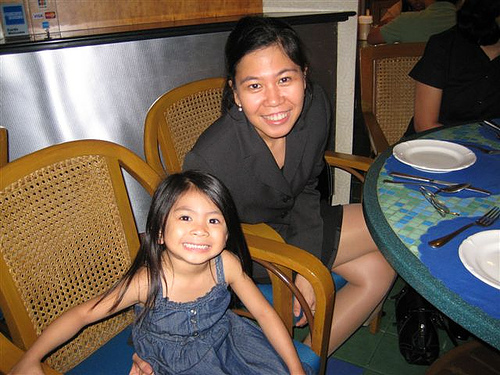without_mask: (231, 40, 307, 138), (162, 185, 228, 265)
